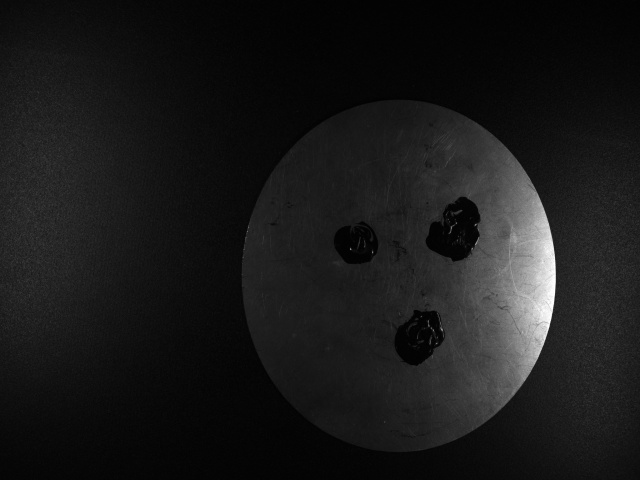zang_wu: (424, 191, 482, 263), (391, 306, 446, 368), (331, 218, 379, 269)
